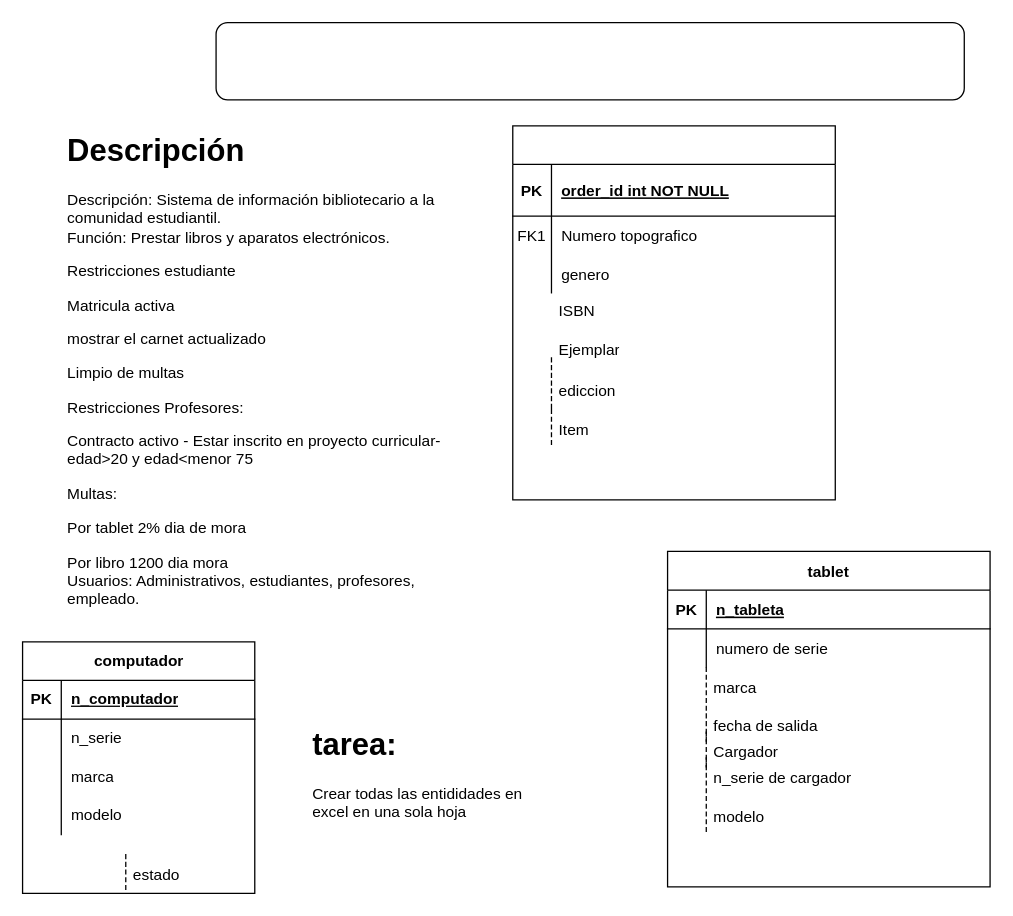
This 1013x916 diagram has some shape labels left out. Here are the shapes that lost their labels. From the top down, the box of each, then its label:
(215, 21, 964, 100): SISTEMA DE INFORMACIÓN BIBLIOTECA
(511, 124, 835, 500): LIBROS
